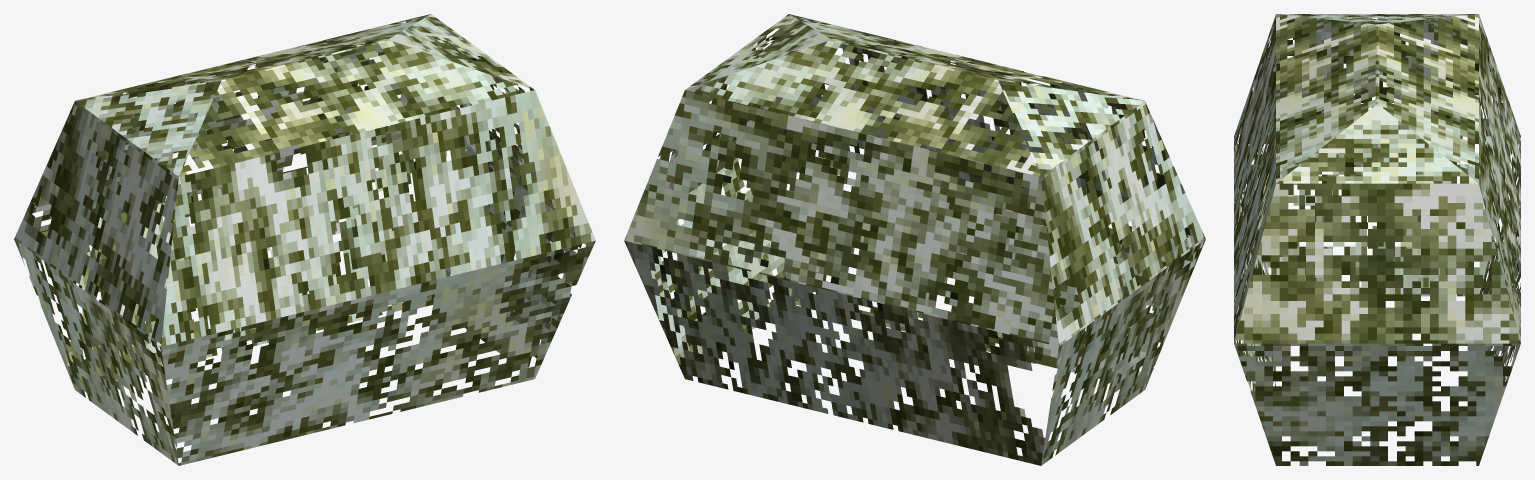
Rendered from bush_long_half_single_winter.glb.
The picture shows the model from 3 angles, left to right: view 1: azimuth 30°, elevation 25°; view 2: azimuth 150°, elevation 25°; view 3: azimuth 270°, elevation 25°; orthographic projection. The views are drawn at different scales.
Visible parts, largest first — view 1: bush_long_half_single_winter; view 2: bush_long_half_single_winter; view 3: bush_long_half_single_winter.
Part boxes in pixels (<box>): bush_long_half_single_winter: <box>14,14,595,465</box>; bush_long_half_single_winter: <box>624,14,1205,465</box>; bush_long_half_single_winter: <box>1234,14,1520,465</box>.
Size of the model in its own units: 1.23 by 0.8765 by 0.7191.
Materials: 1 (1 with a texture image).
